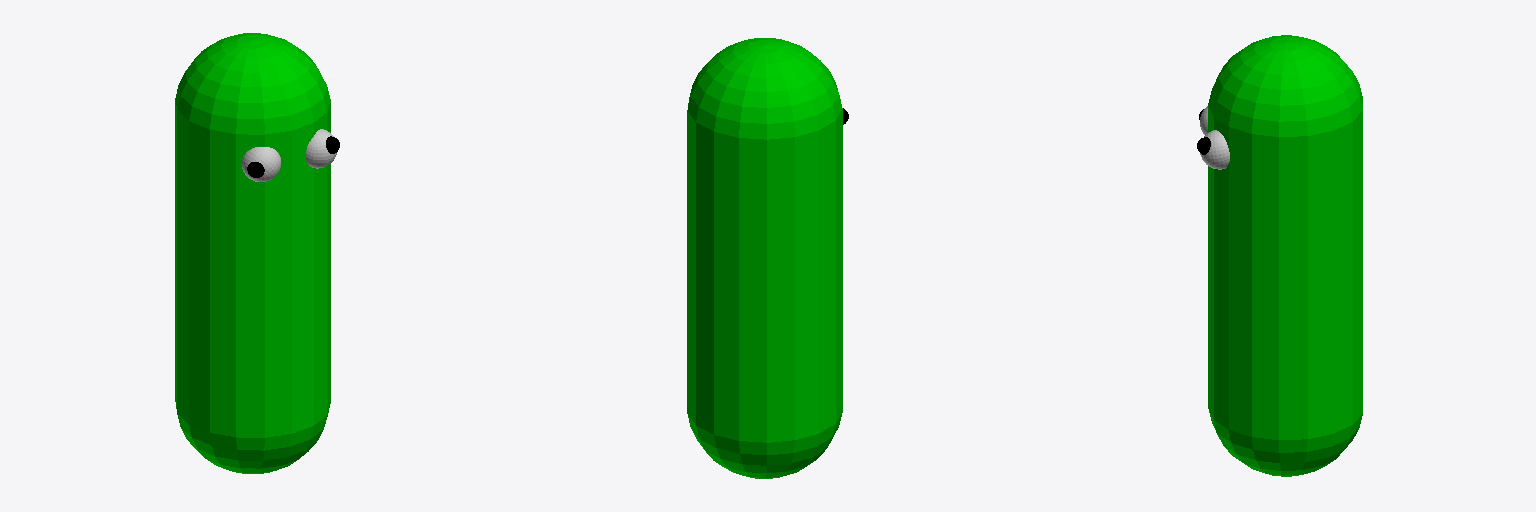
Rendered from Player.obj.
The picture shows the model from 3 angles: view 1: azimuth 30°, elevation 25°; view 2: azimuth 150°, elevation 25°; view 3: azimuth 270°, elevation 25°; orthographic projection.
Parts seen in each view (by area): view 1: Player_Cube.003, REye_Eye__1__1_Scene, LEye_Eye_Scene; view 2: Player_Cube.003; view 3: Player_Cube.003, LEye_Eye_Scene.
Part boxes in pixels (x1,y1,x2,y2): Player_Cube.003: (175,33,330,473); REye_Eye__1__1_Scene: (242,147,280,181); LEye_Eye_Scene: (306,129,339,168); Player_Cube.003: (687,38,842,478); Player_Cube.003: (1208,35,1362,476); LEye_Eye_Scene: (1197,130,1229,169).
Size of the model in its own units: 1.98 by 6 by 2.12.